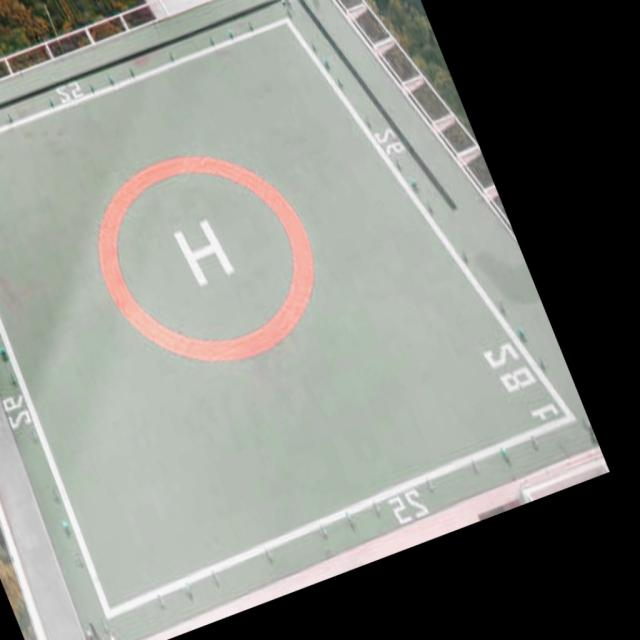helipad: (87, 148, 320, 366)
